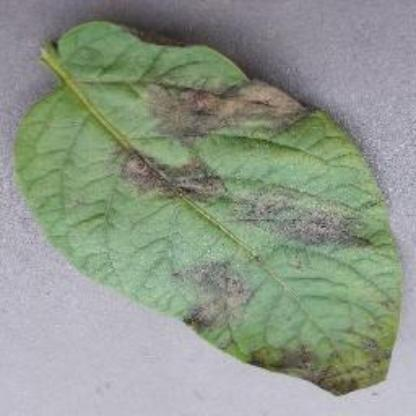Late-Blight: (13, 15, 408, 393)
